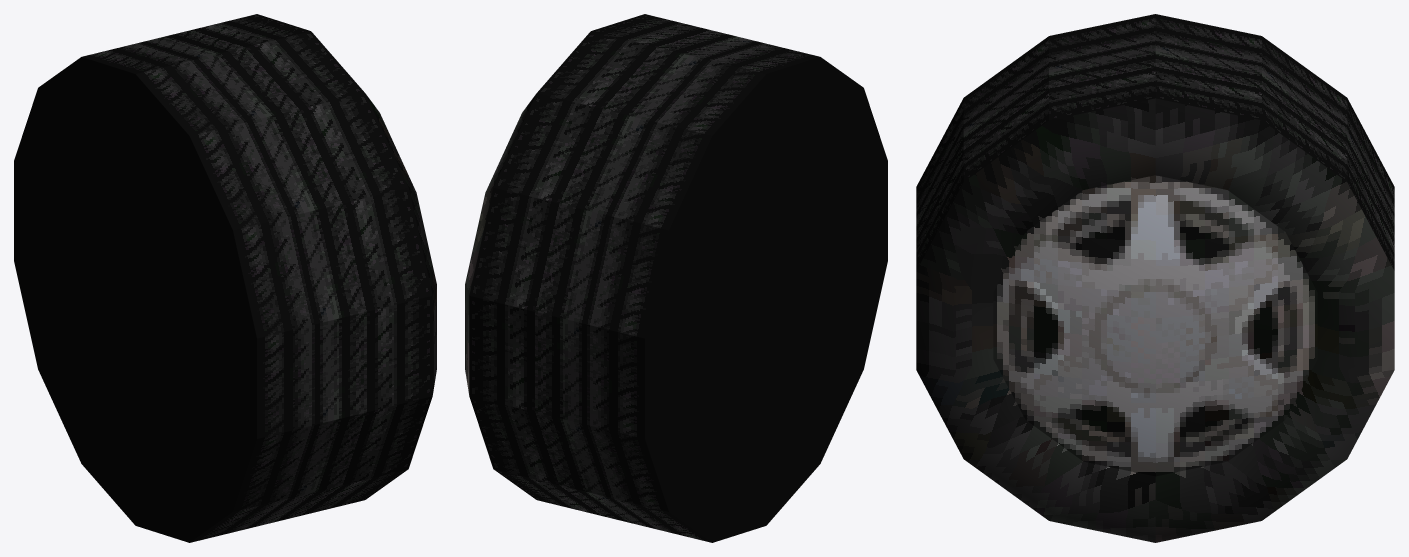
File: Alloy_Wheel.fbx
The picture shows the model from 3 angles, left to right: view 1: azimuth 30°, elevation 25°; view 2: azimuth 150°, elevation 25°; view 3: azimuth 270°, elevation 25°; orthographic projection.
Parts seen in each view (by area): view 1: wheel_alloy_l0; view 2: wheel_alloy_l0; view 3: wheel_alloy_l0.
Boxes of the visible parts, x1,y1,x2,y2 form: wheel_alloy_l0: (14,14,436,542); wheel_alloy_l0: (465,14,887,542); wheel_alloy_l0: (916,14,1394,542).
Bounding box in the file's own units: 52.77 × 99.92 × 97.42.
Materials: 3 (2 with a texture image).
